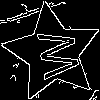W: (27, 27, 80, 82)
